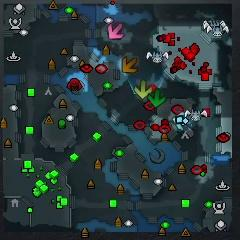x1: (107, 23, 124, 40)
x2: (135, 80, 153, 99)
x3: (172, 112, 190, 130)
x4: (147, 89, 165, 108)
x5: (121, 56, 137, 74)
